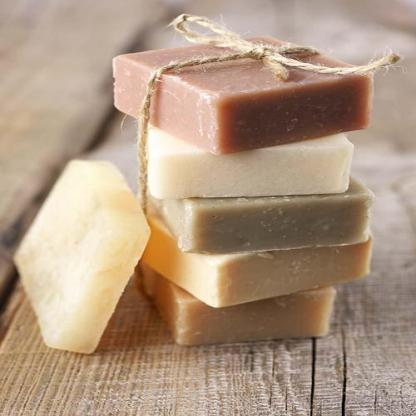soap: (105, 32, 384, 162), (7, 156, 154, 354)
